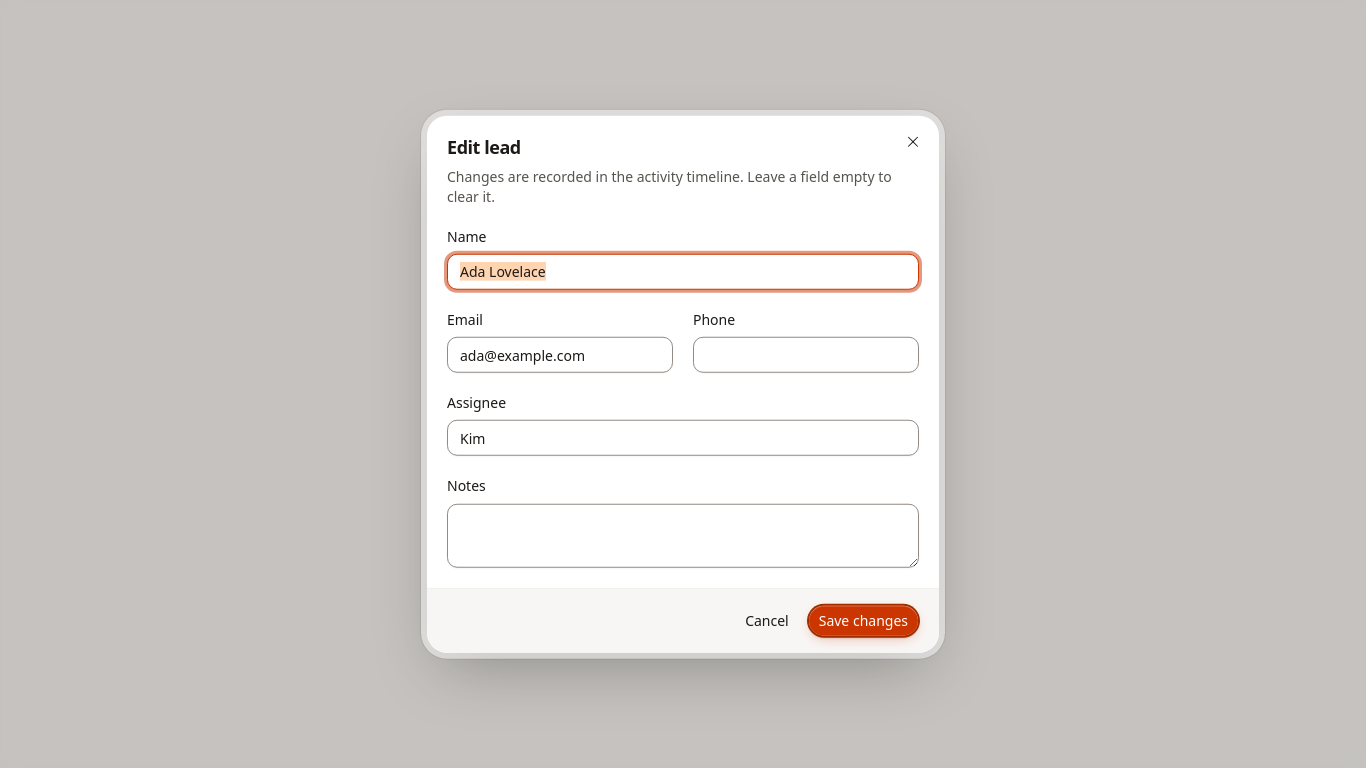
Test case: EditLeadDialog › on a version conflict keeps the typed values and offers to reload
The width and height of the screenshot is (1366, 768).
Type "My unsaved note" into the text box labelled "Notes" at [683, 535], box [447,503,919,567]
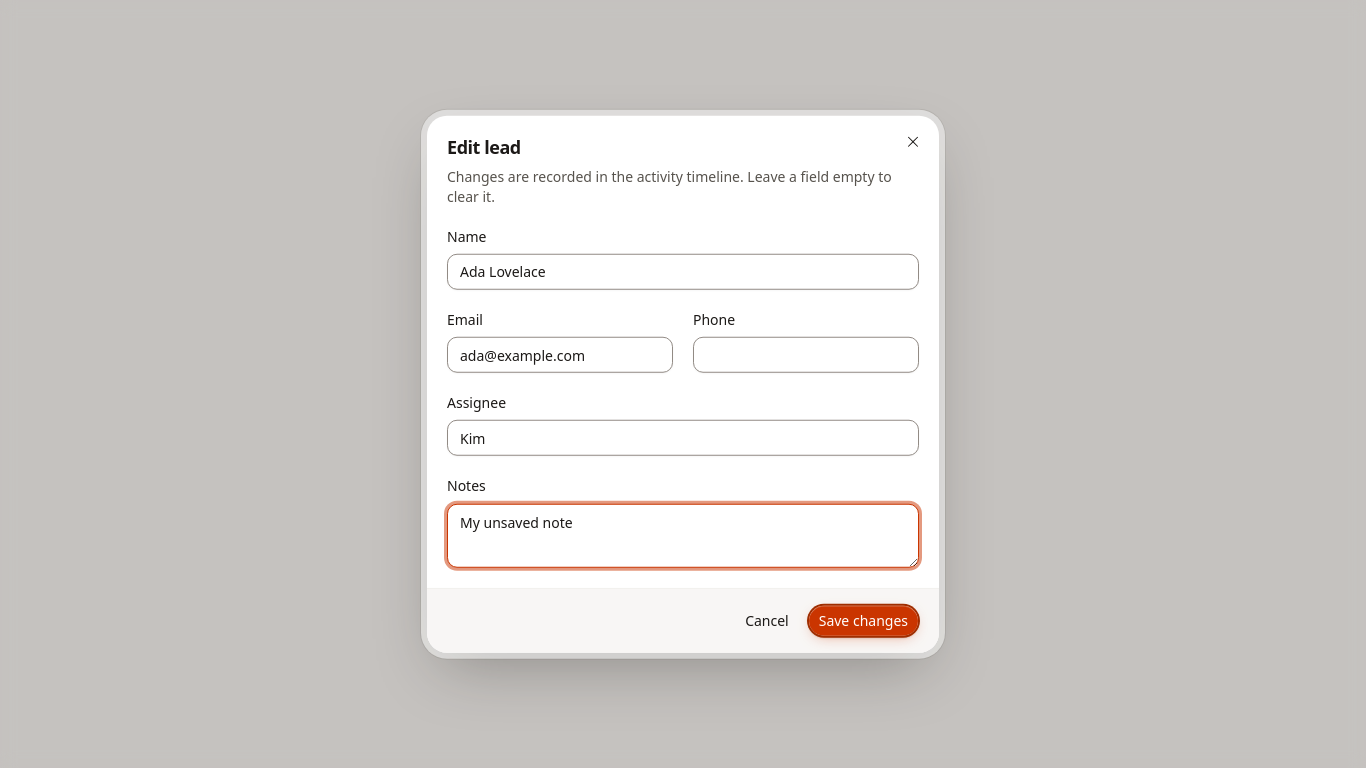
Click the button "Save changes" at [863, 620], box [808,604,919,636]
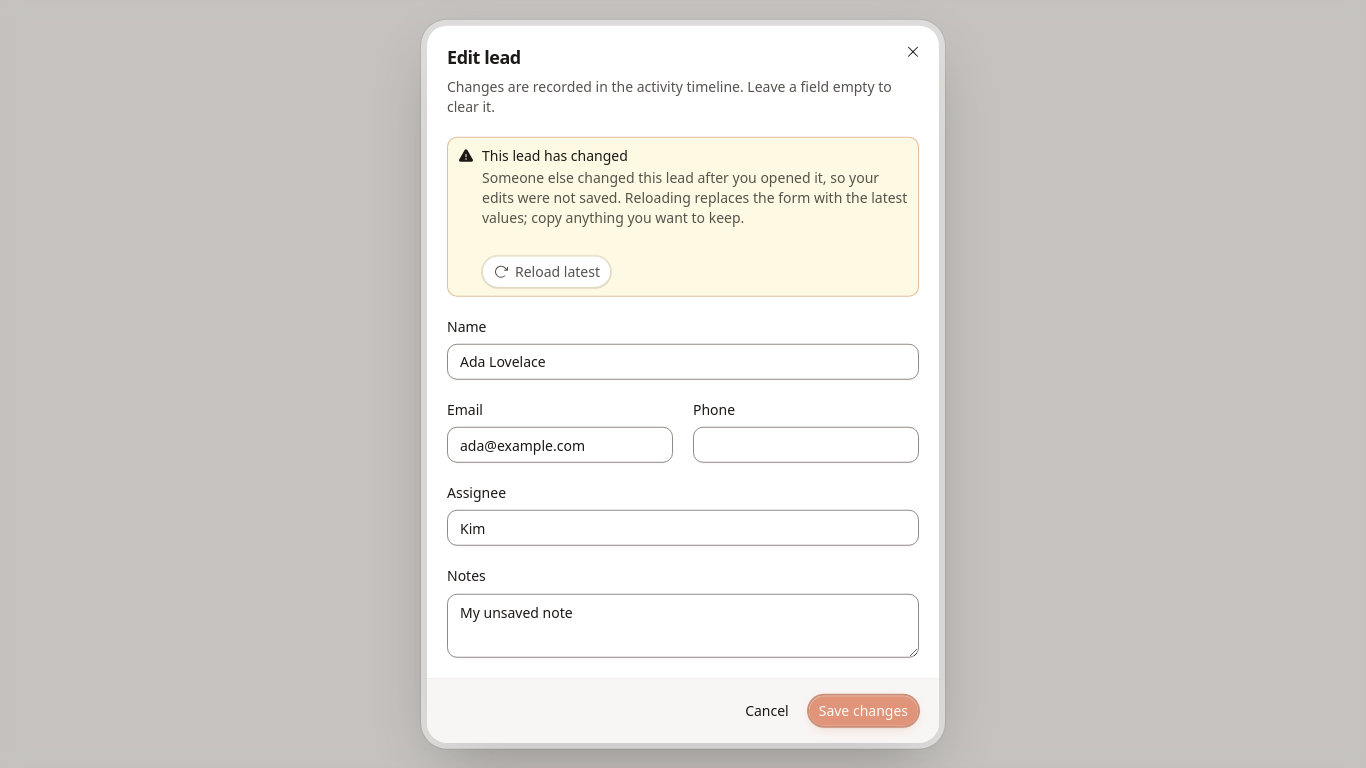
Now the text "This lead has changed" is shown, box [482,145,628,164]
Now the button "Save changes" is disabled, box [808,694,919,726]
Click the button "Reload latest" at [546, 271], box [482,255,611,287]
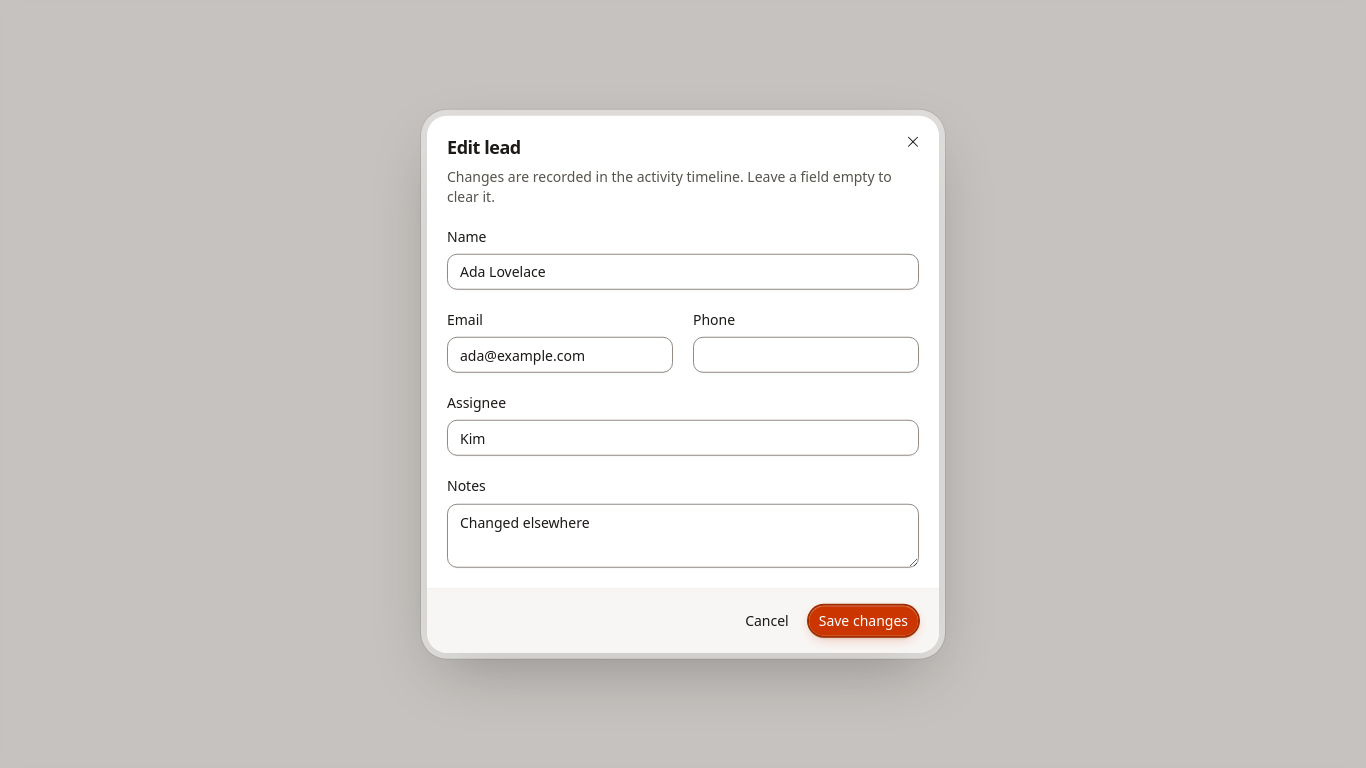
Now the text box labelled "Notes" holds "Changed elsewhere", box [447,503,919,567]
Now the text "This lead has changed" is gone
